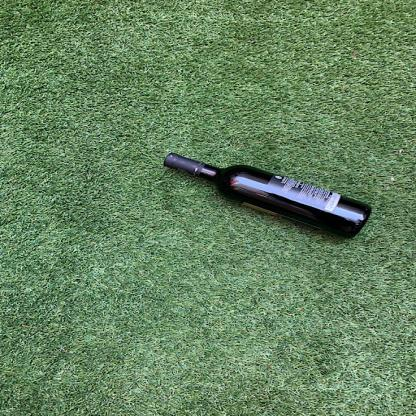trash: (156, 146, 374, 240)
